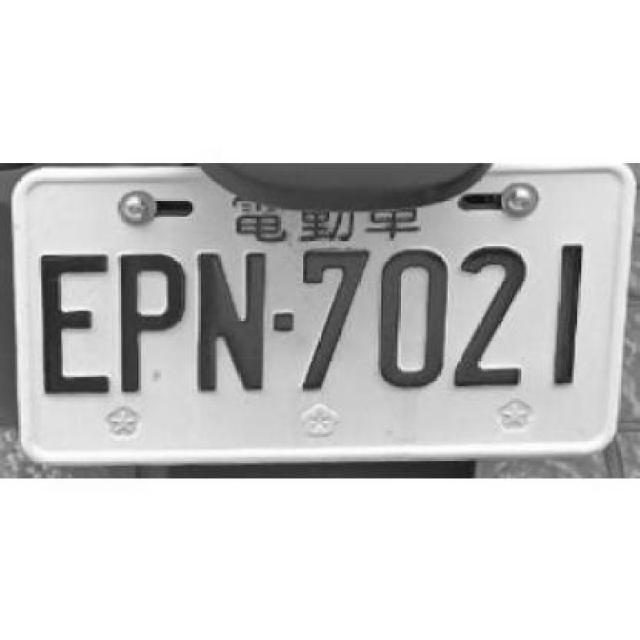-: (272, 310, 296, 332)
0: (380, 244, 449, 390)
1: (550, 240, 584, 386)
2: (454, 245, 528, 388)
7: (303, 250, 372, 392)
E: (38, 249, 111, 394)
N: (196, 248, 266, 392)
P: (117, 249, 186, 394)
